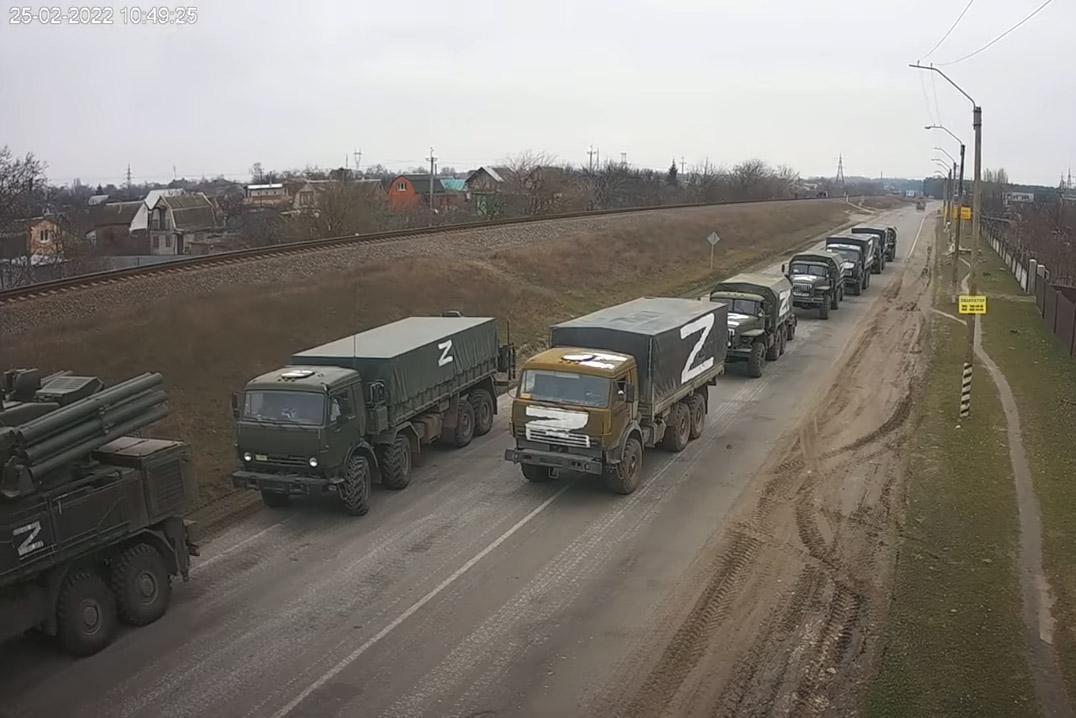truck: (1, 344, 193, 656), (224, 310, 514, 516), (508, 298, 730, 497), (704, 263, 806, 377), (781, 244, 847, 322), (823, 235, 888, 290), (914, 197, 931, 214)
